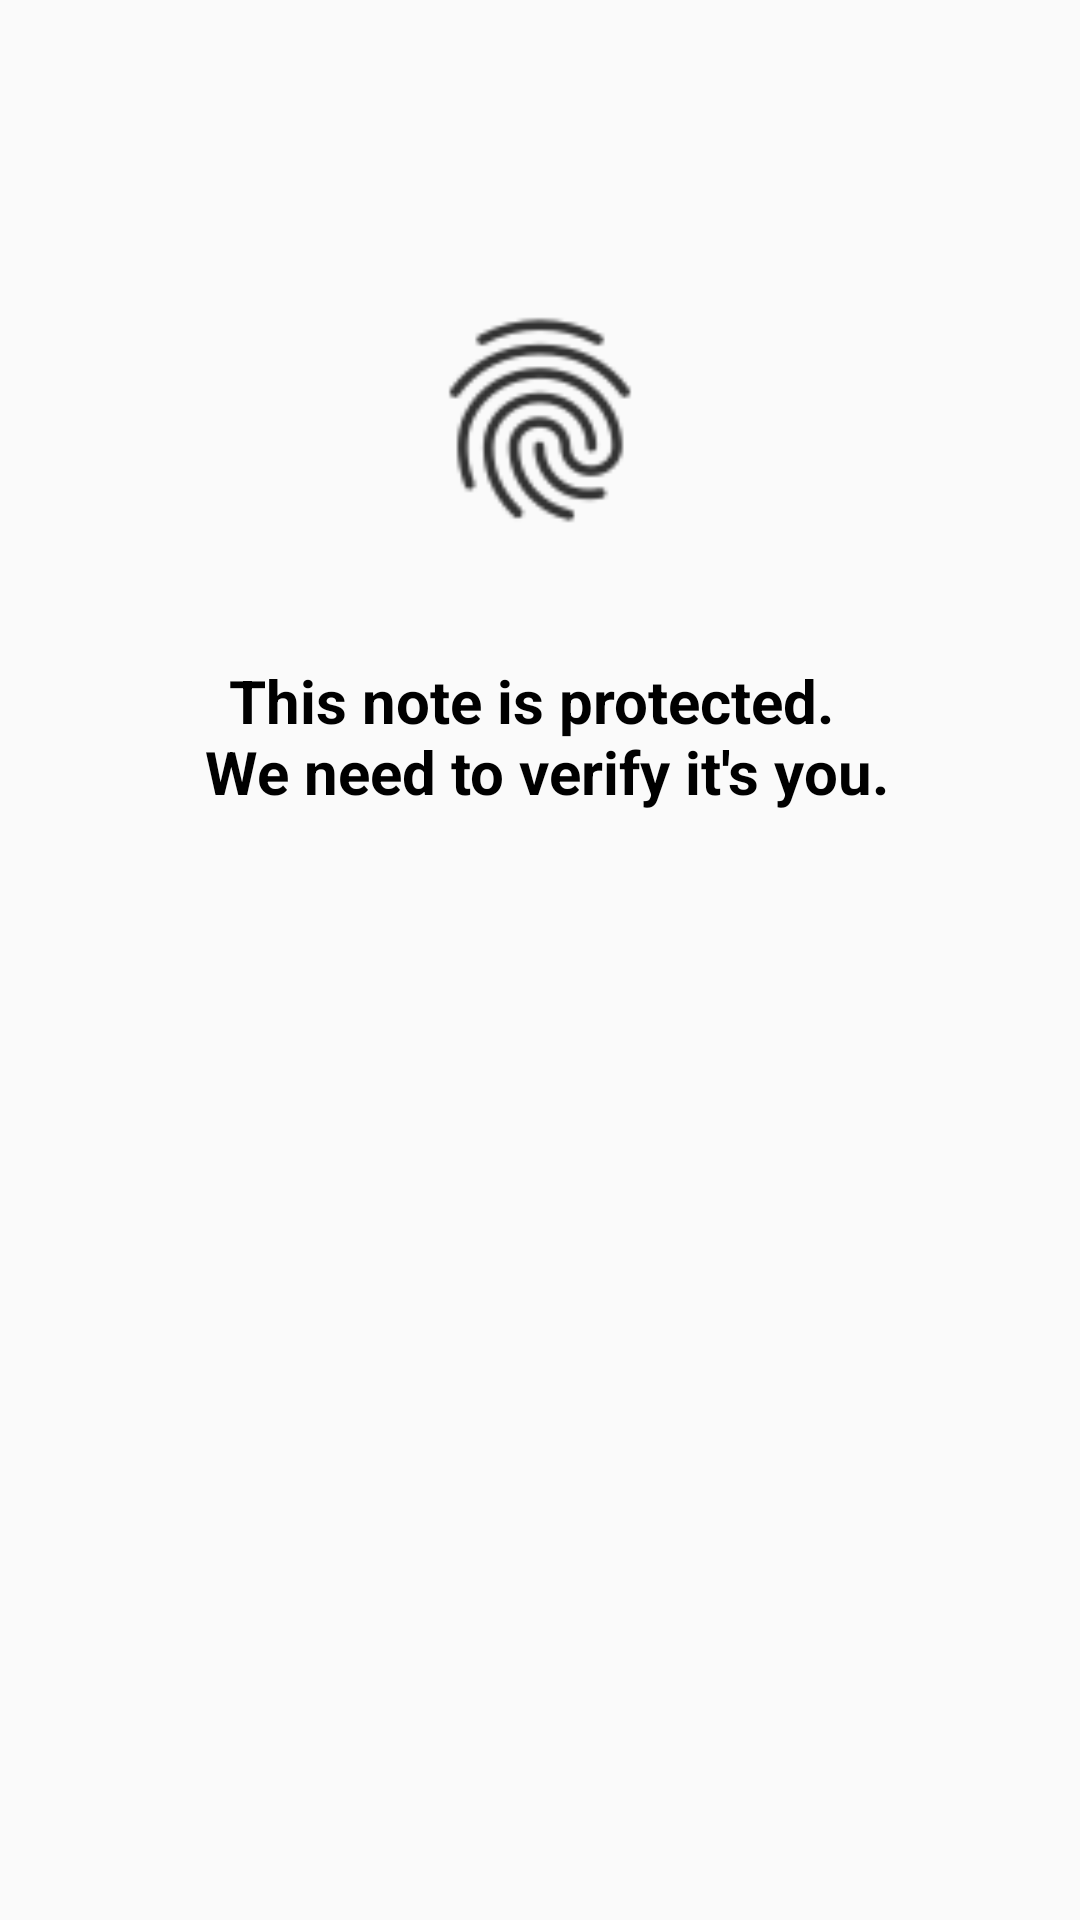

Named icons in this screenshot (1080 x 1920) and their bounding boxes, BBox(x1, y1, x2, y2):
fingerpint: BBox(449, 318, 631, 522)
